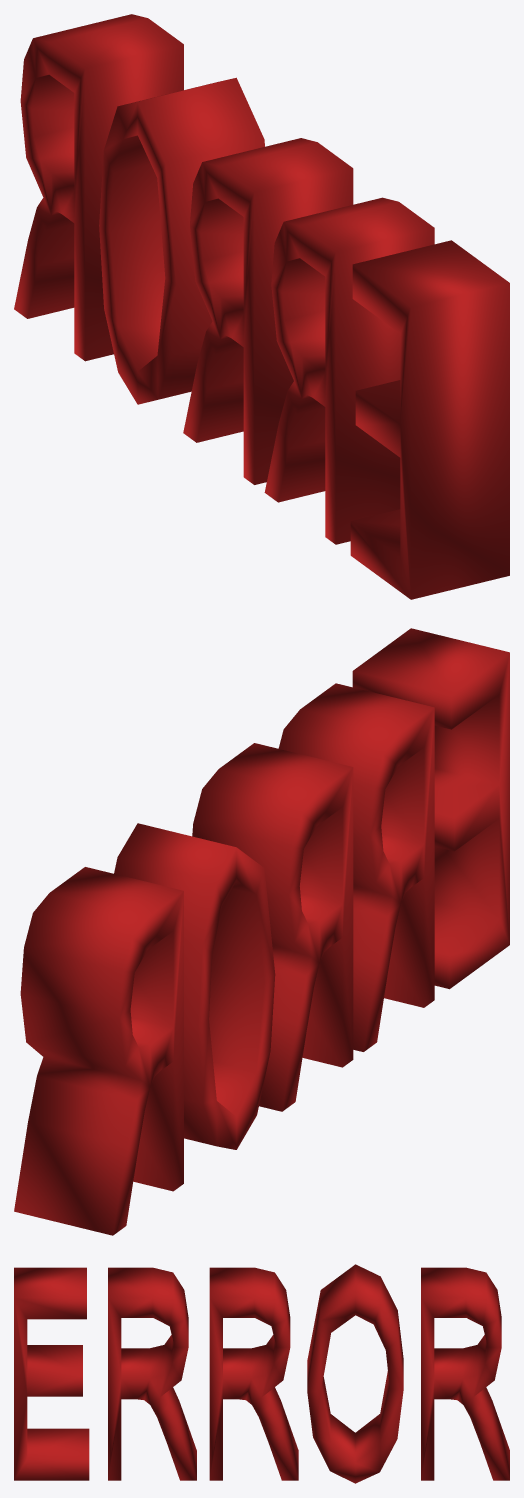
Rendered from error.obj.
3 renders of one model, top to bottom at view 1: azimuth 30°, elevation 25°; view 2: azimuth 150°, elevation 25°; view 3: azimuth 270°, elevation 25°, orthographic. The views are drawn at different scales.
Parts seen in each view (by area): view 1: text1; view 2: text1; view 3: text1.
Part boxes in pixels (bbox=[...]): text1: bbox=[14, 14, 509, 599]; text1: bbox=[14, 628, 509, 1235]; text1: bbox=[14, 1264, 509, 1483].
Bounding box in the file's own units: 3.85 × 11.26 × 26.75.
